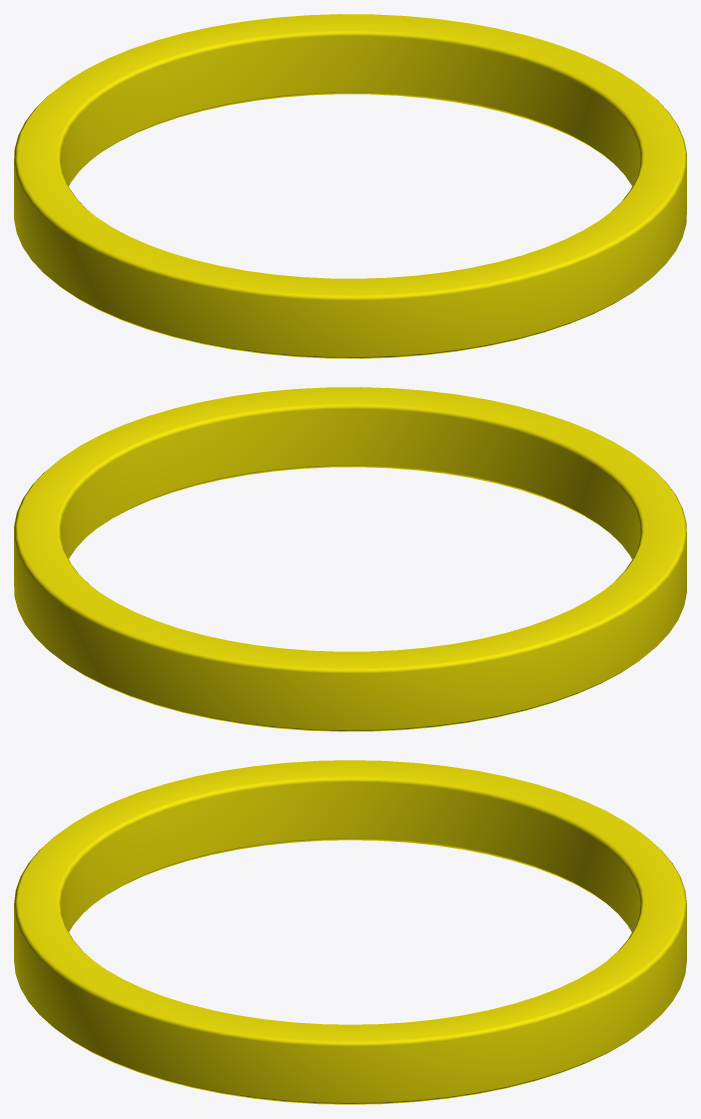
3 renders of one model, top to bottom at view 1: azimuth 30°, elevation 25°; view 2: azimuth 150°, elevation 25°; view 3: azimuth 270°, elevation 25°, orthographic.
Visible parts, largest first — view 1: seal_body; view 2: seal_body; view 3: seal_body.
Part boxes in pixels (bbox=[...]): seal_body: bbox=[14, 14, 686, 358]; seal_body: bbox=[14, 387, 686, 731]; seal_body: bbox=[14, 760, 686, 1104].
Size of the model in its own units: 0.1365 by 0.0143 by 0.1365.
